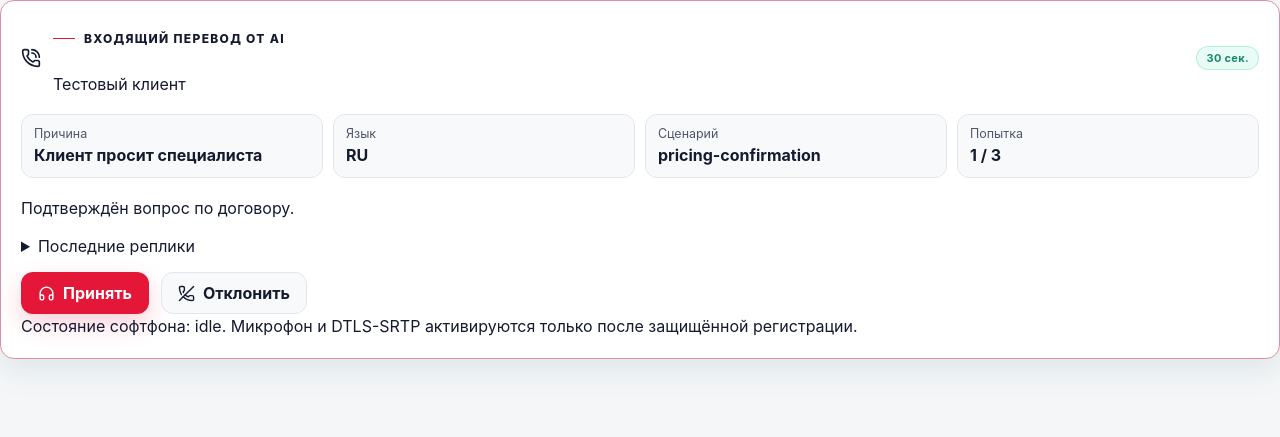
live operator transfer › shows safe AI context and atomically claims the offer
Expected: the heading "Тестовый клиент" is shown, [53, 74, 186, 94]
Expected: the text "Клиент просит специалиста" is shown, [34, 145, 262, 165]
What coordinates should you click on to do the following:
click the button "Принять"
I would click on:
 (85, 293)
Its box is [21, 272, 149, 314].
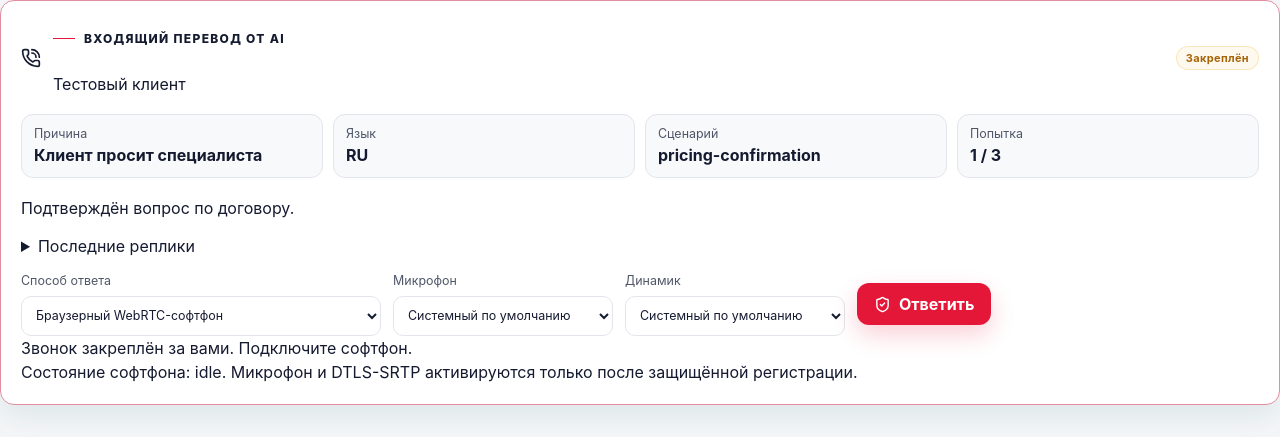
Expected: the text "Звонок закреплён за вами. Подключите софтфон." is shown, [21, 338, 412, 358]
